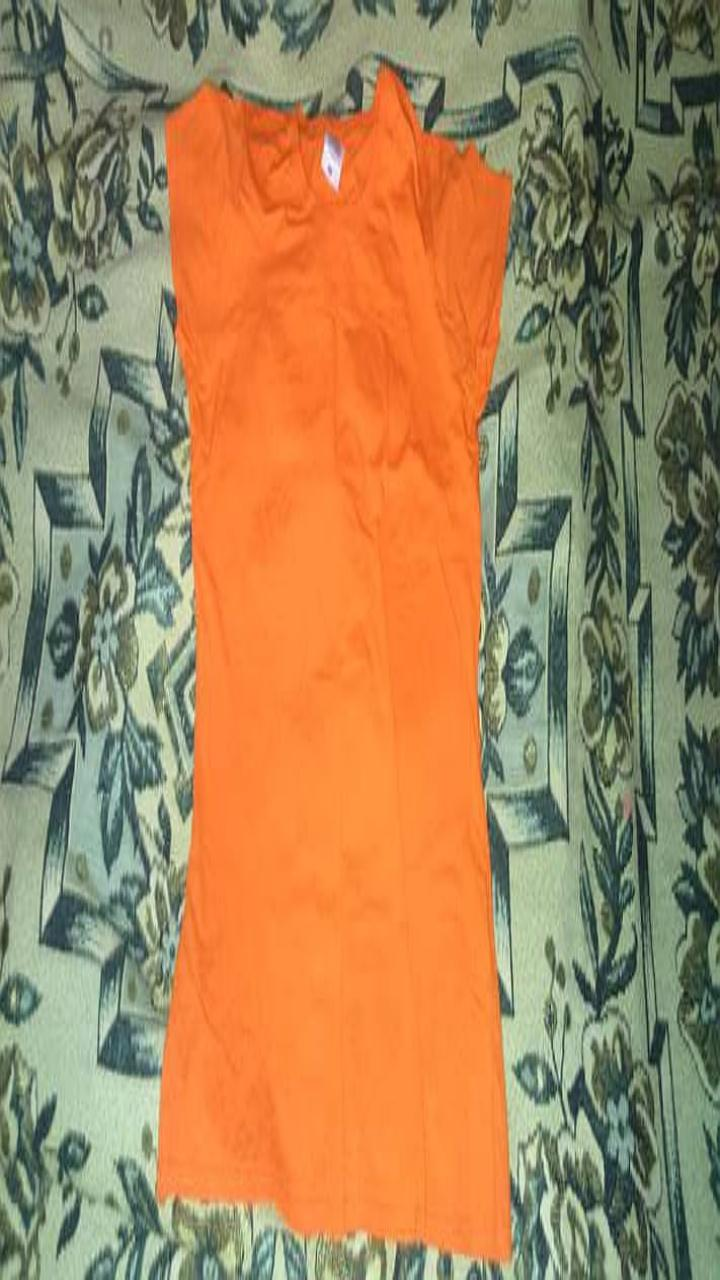T-Shirt: (157, 66, 510, 1258)
